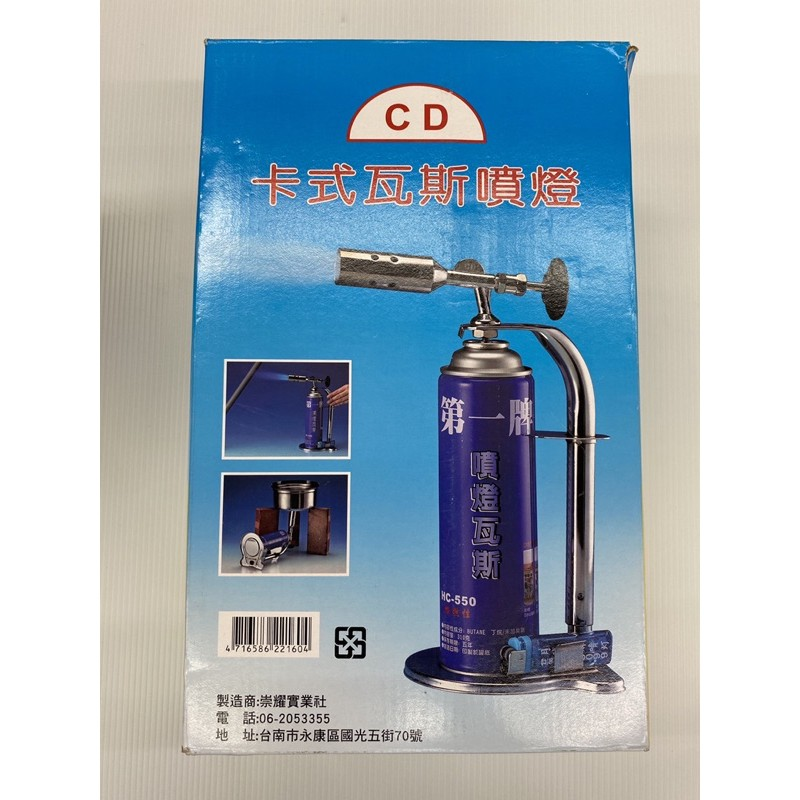gastorch: (326, 247, 631, 701), (283, 373, 338, 457), (237, 513, 307, 569)
